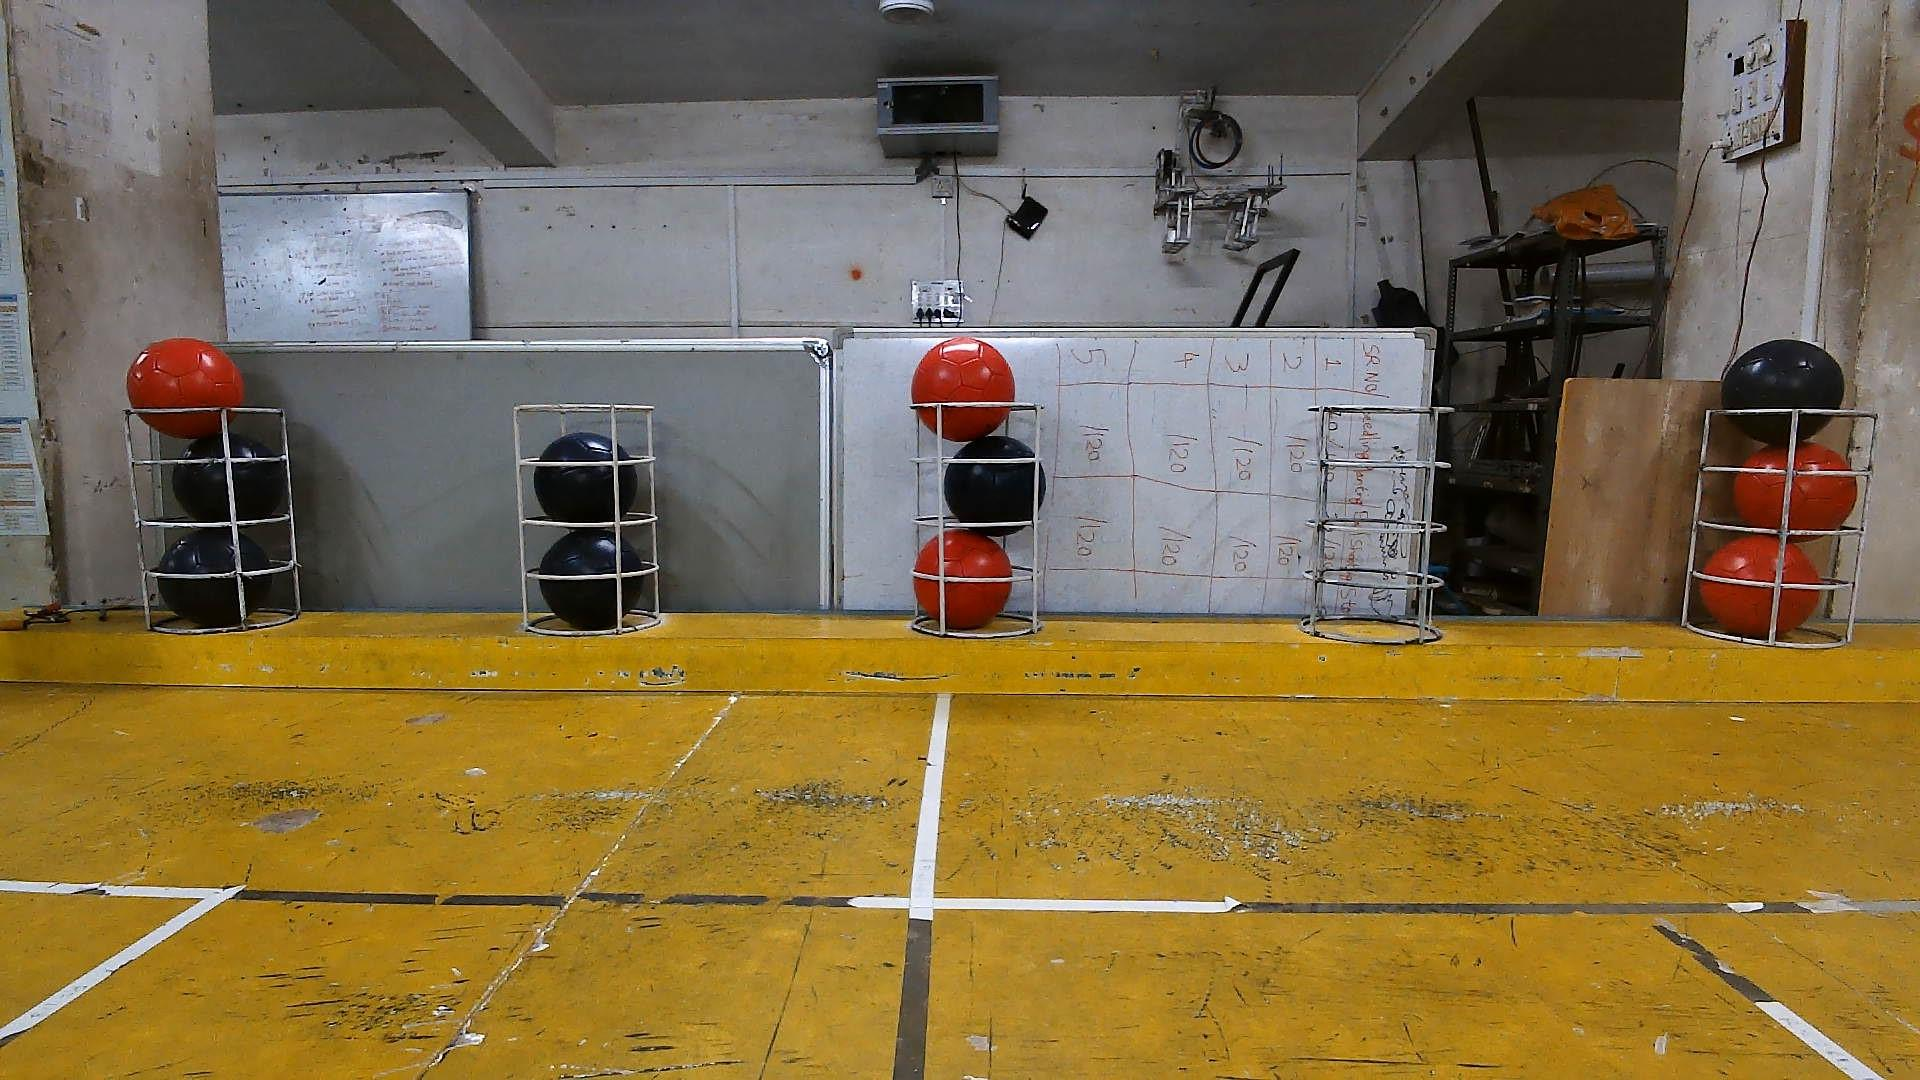dhoka: (1721, 338, 1845, 446), (161, 525, 277, 626), (541, 529, 645, 630), (169, 431, 281, 521), (945, 435, 1046, 533), (533, 435, 637, 524)
laale: (1702, 537, 1822, 637), (1730, 446, 1858, 539), (128, 338, 244, 439), (911, 338, 1017, 443), (915, 529, 1013, 630)
